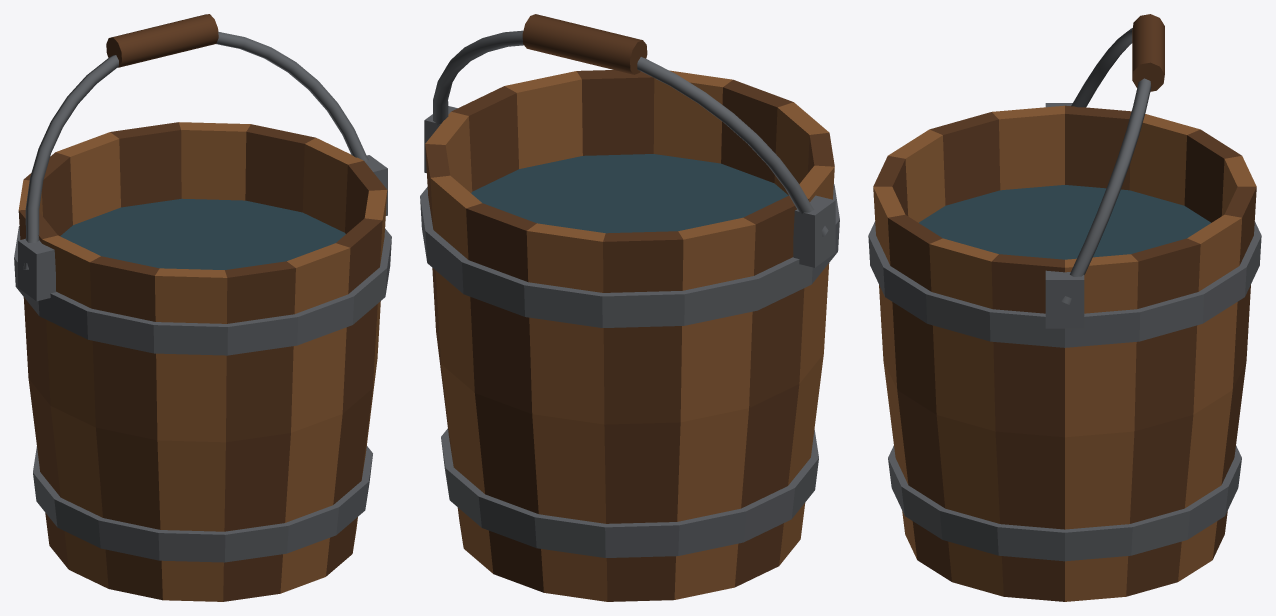
The model's file is water-bucket_final.glb.
The picture shows the model from 3 angles, left to right: view 1: azimuth 30°, elevation 25°; view 2: azimuth 150°, elevation 25°; view 3: azimuth 270°, elevation 25°; orthographic projection. The views are drawn at different scales.
Visible parts, largest first — view 1: SM_WaterBucket_Body, SM_WaterBucket, SM_WaterBucket_Water, SM_WaterBucket_Bail, SM_WaterBucket_Grip; view 2: SM_WaterBucket_Body, SM_WaterBucket, SM_WaterBucket_Water, SM_WaterBucket_Bail, SM_WaterBucket_Grip; view 3: SM_WaterBucket_Body, SM_WaterBucket, SM_WaterBucket_Water, SM_WaterBucket_Bail, SM_WaterBucket_Grip.
Part boxes in pixels (x1,y1,x2,y2): SM_WaterBucket_Body: [18, 122, 387, 601]; SM_WaterBucket: [14, 155, 391, 562]; SM_WaterBucket_Water: [60, 198, 345, 269]; SM_WaterBucket_Bail: [23, 31, 368, 269]; SM_WaterBucket_Grip: [106, 14, 218, 67]; SM_WaterBucket_Body: [425, 70, 834, 601]; SM_WaterBucket: [420, 106, 839, 557]; SM_WaterBucket_Water: [471, 154, 788, 233]; SM_WaterBucket_Bail: [433, 30, 828, 236]; SM_WaterBucket_Grip: [522, 14, 647, 74]; SM_WaterBucket_Body: [873, 105, 1256, 601]; SM_WaterBucket: [868, 103, 1261, 561]; SM_WaterBucket_Water: [919, 185, 1210, 259]; SM_WaterBucket_Bail: [1061, 28, 1151, 304]; SM_WaterBucket_Grip: [1132, 14, 1164, 91].
Bounding box in the file's own units: 0.3307 × 0.4281 × 0.3075.
